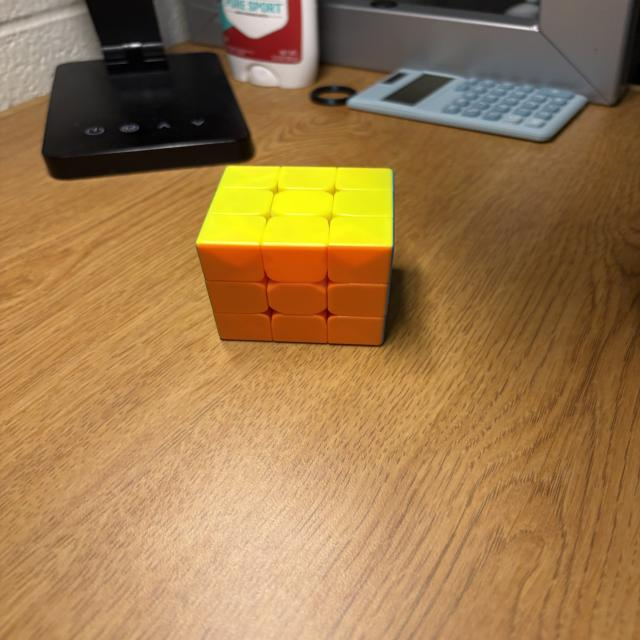Rubiks Cube: (195, 166, 391, 350)
